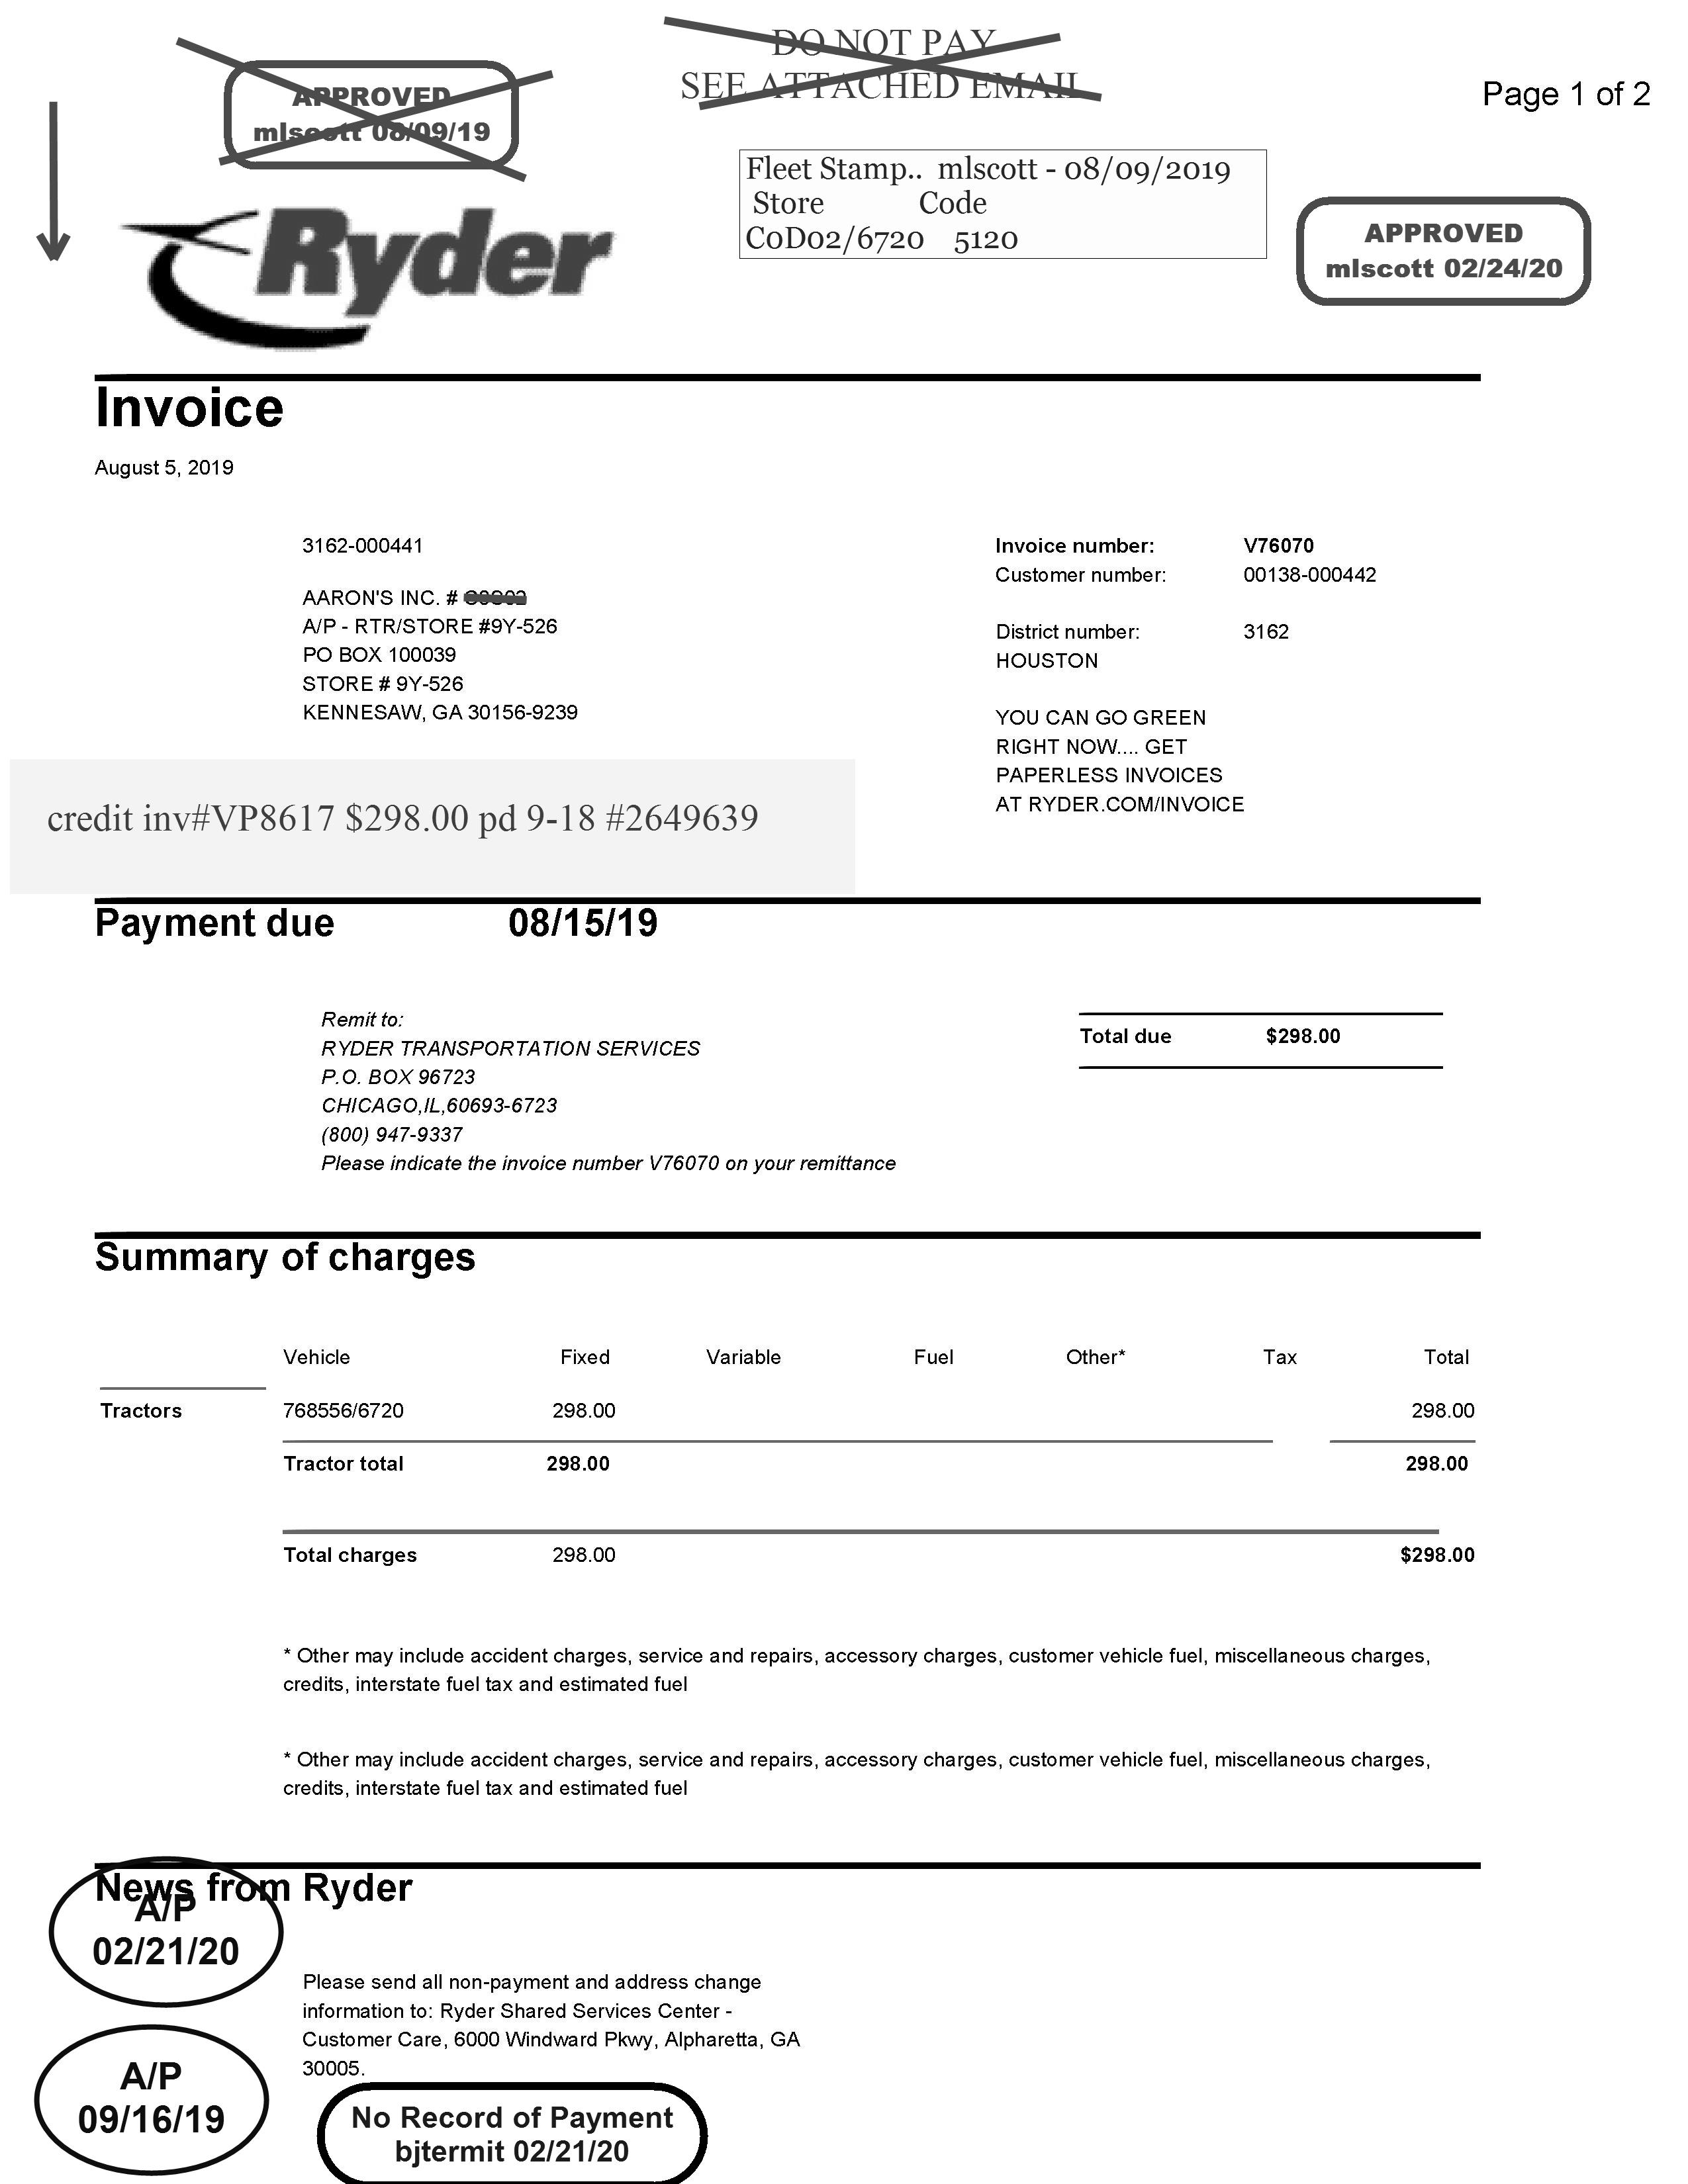B_Paragraph: (319, 1007, 904, 1189), (273, 1735, 1440, 1813), (277, 1638, 1447, 1704), (39, 775, 787, 865), (743, 147, 1261, 266), (989, 528, 1378, 684), (298, 528, 583, 732), (303, 1971, 810, 2081), (677, 9, 1096, 122), (996, 704, 1254, 823), (358, 2099, 683, 2175), (1314, 207, 1575, 294), (248, 78, 496, 156), (74, 2051, 232, 2141), (1083, 1012, 1340, 1060), (1477, 66, 1663, 128), (96, 1897, 248, 1969), (92, 454, 238, 482), (96, 1393, 195, 1423)
B_SubTitle: (87, 899, 670, 954), (92, 1236, 489, 1282), (90, 1867, 418, 1909)
B_Table: (273, 1330, 1482, 1597)
B_Title: (122, 190, 624, 358), (92, 386, 296, 441)
